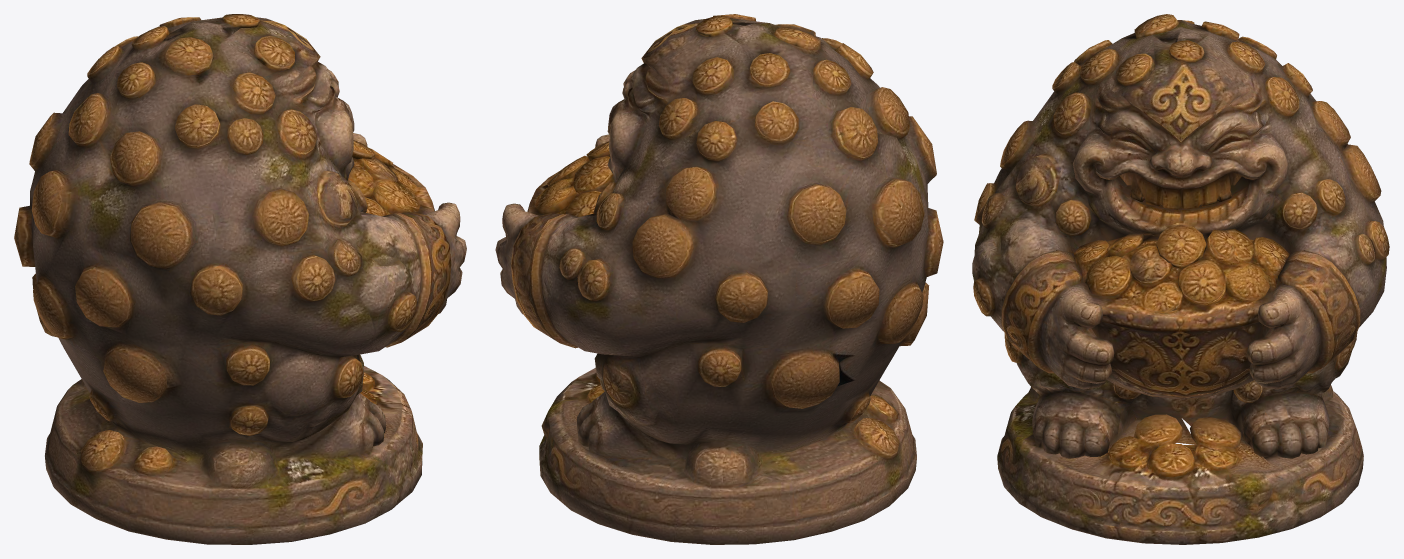
The model's file is n_acgozluluk.glb.
3 renders of one model, left to right at view 1: azimuth 30°, elevation 25°; view 2: azimuth 150°, elevation 25°; view 3: azimuth 270°, elevation 25°, orthographic. The views are drawn at different scales.
Visible parts, largest first — view 1: tripo_node_af0171ea-c467-43f4-a12d-acacd1f4b8dd; view 2: tripo_node_af0171ea-c467-43f4-a12d-acacd1f4b8dd; view 3: tripo_node_af0171ea-c467-43f4-a12d-acacd1f4b8dd.
Part boxes in pixels (left/top/right/bottom): tripo_node_af0171ea-c467-43f4-a12d-acacd1f4b8dd: left=14, top=14, right=466, bottom=544; tripo_node_af0171ea-c467-43f4-a12d-acacd1f4b8dd: left=495, top=14, right=943, bottom=544; tripo_node_af0171ea-c467-43f4-a12d-acacd1f4b8dd: left=972, top=14, right=1389, bottom=544.
Bounding box in the file's own units: 0.8769 × 0.998 × 0.8847.
1 material, 1 textured.
